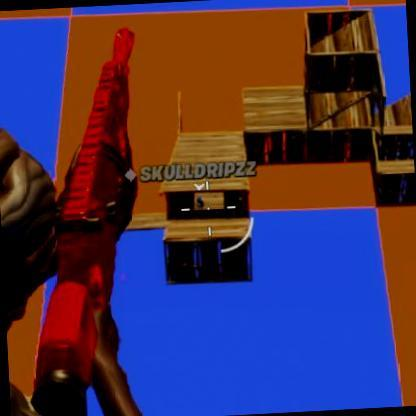person: (195, 192, 204, 206)
